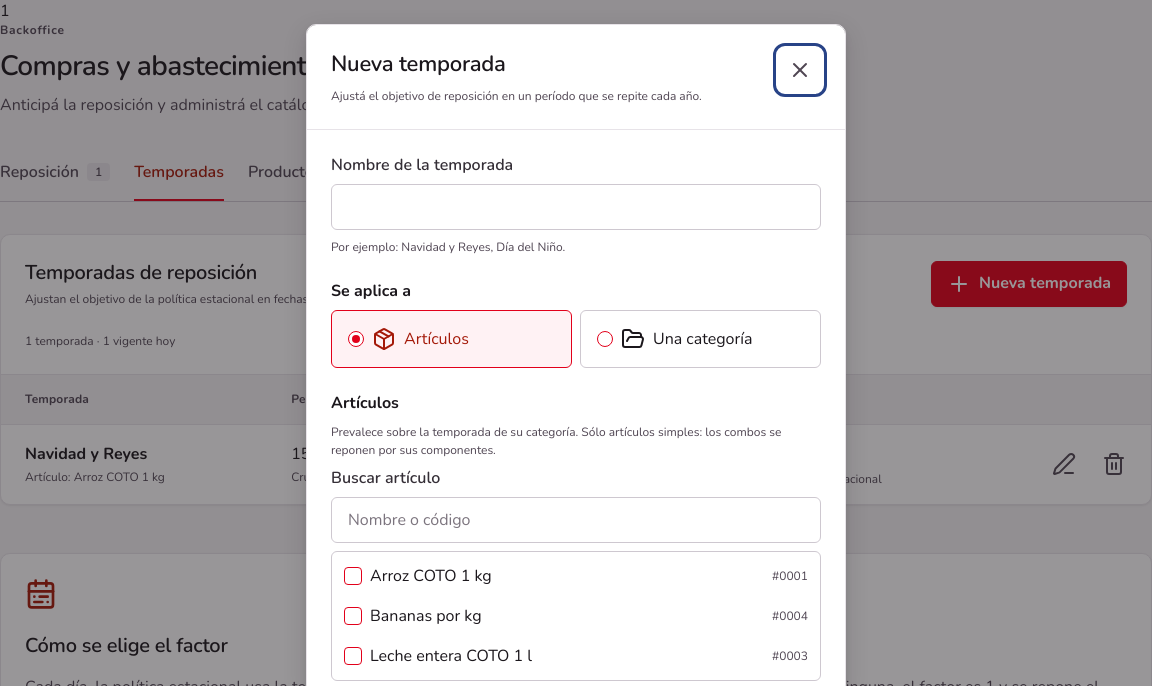
Test case: temporadas de reposición › sin artículos elegidos no envía la temporada
The width and height of the screenshot is (1152, 686).
Earlier steps of the test are not shown.
Type "Vacía" into the field labelled "Nombre de la temporada" at (576, 207), box x1=331 y1=184 x2=821 y2=230
(page scrolled)
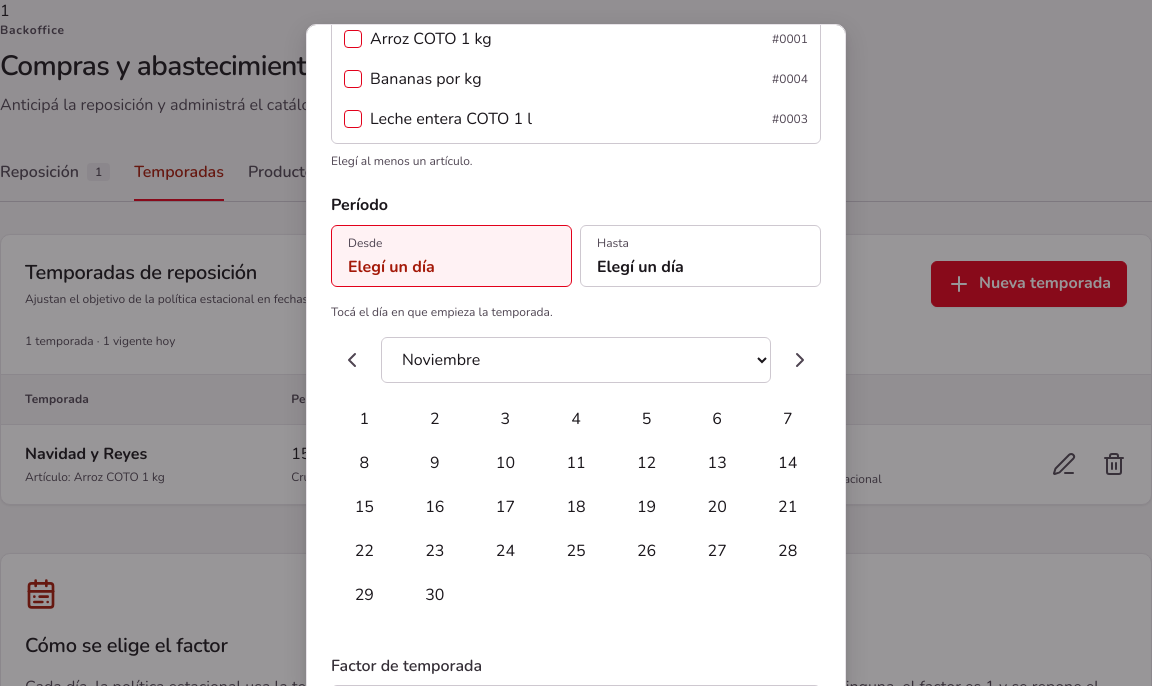
Select "Marzo" in the dropdown named "Mes del calendario" at (576, 360), box x1=381 y1=337 x2=771 y2=383
Click the button "1" at (364, 419), box x1=331 y1=399 x2=398 y2=439
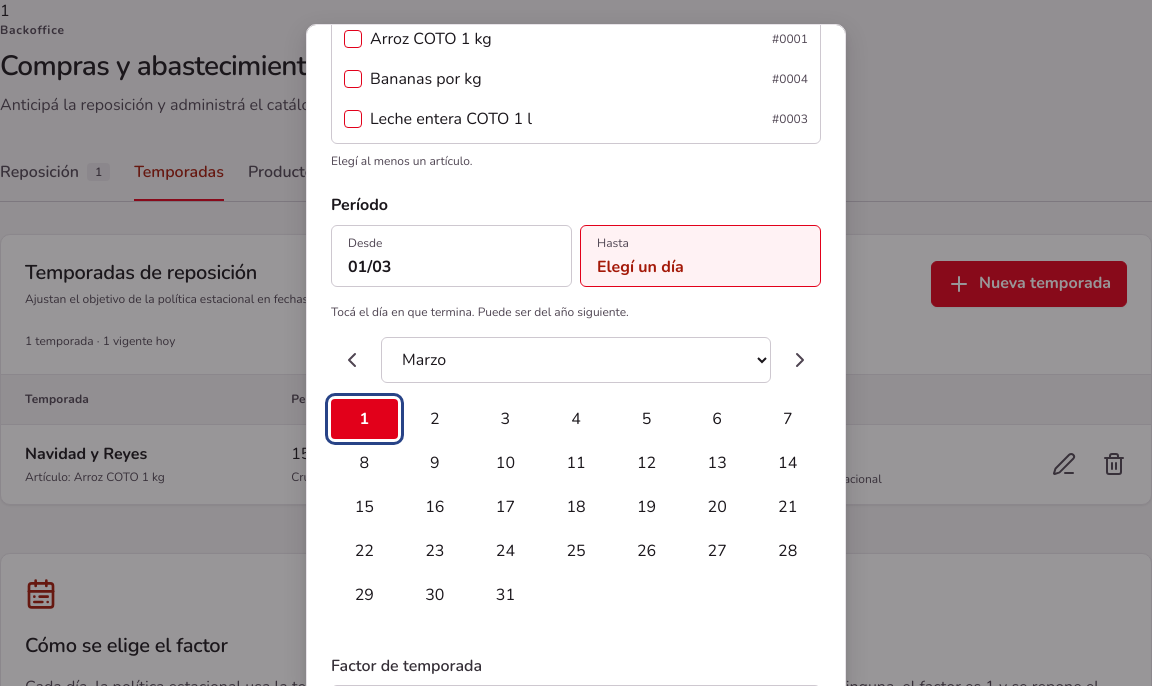
Select "Marzo" in the dropdown named "Mes del calendario" at (576, 360), box x1=381 y1=337 x2=771 y2=383
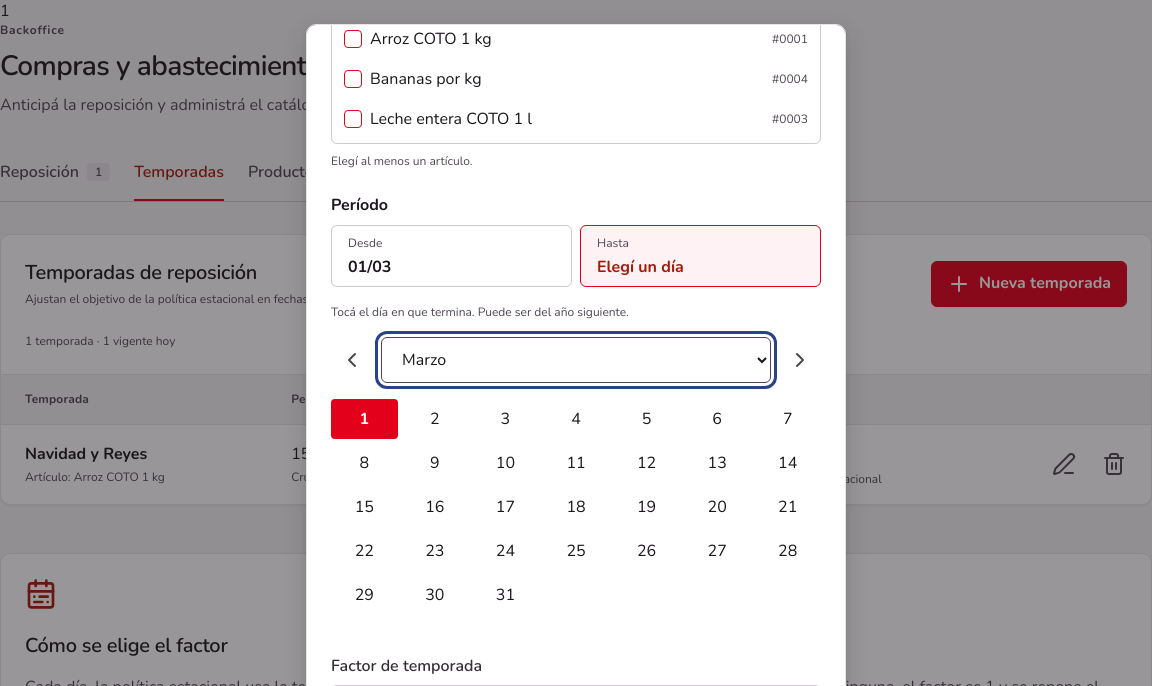
Click the button "2" at (435, 419), box x1=402 y1=399 x2=468 y2=439
(page scrolled)
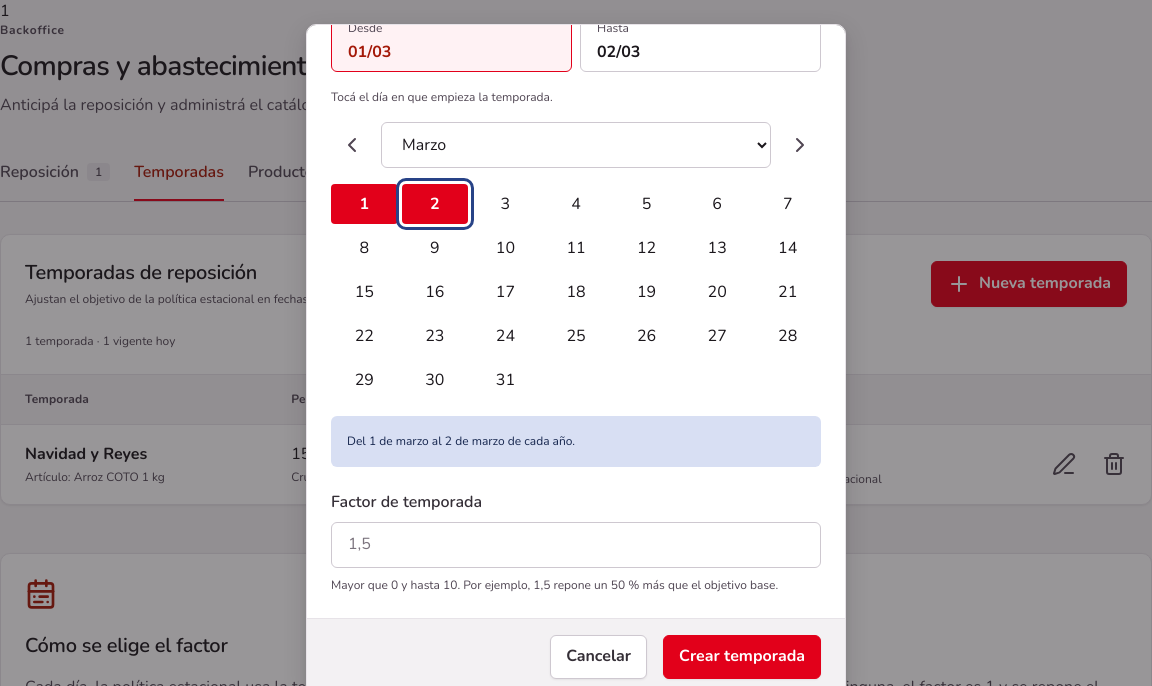
Type "1.1" into the number field labelled "Factor de temporada" at (576, 544), box x1=331 y1=522 x2=821 y2=568
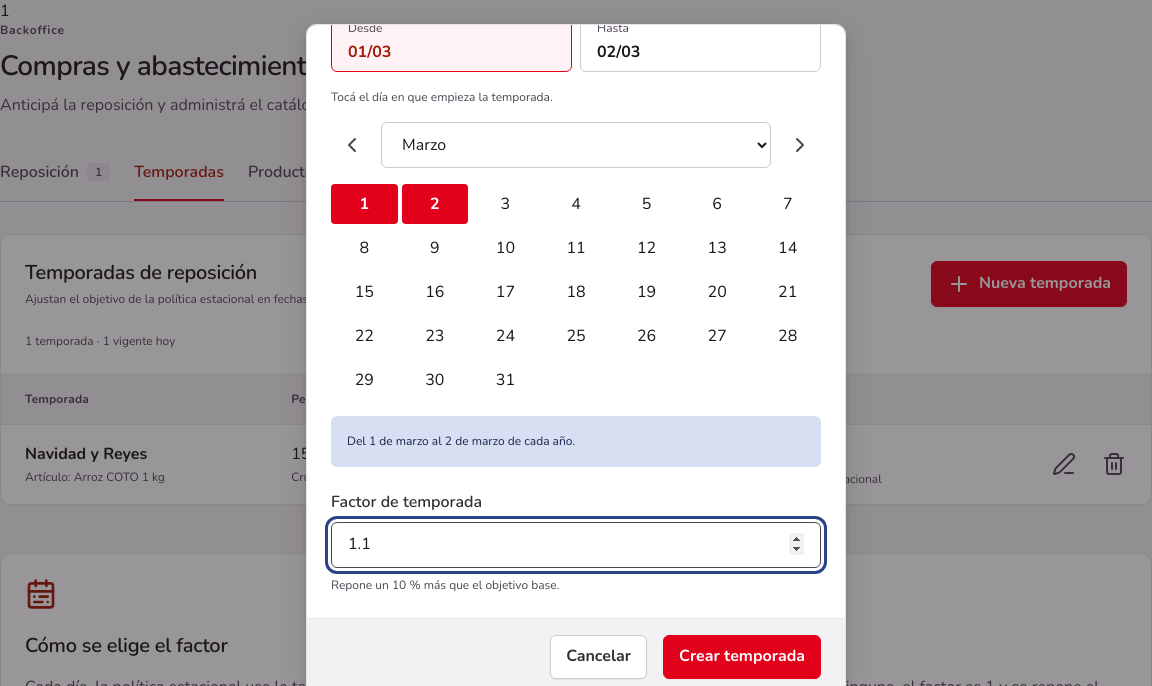
Click the button "Crear temporada" at (742, 656), box x1=663 y1=634 x2=821 y2=678
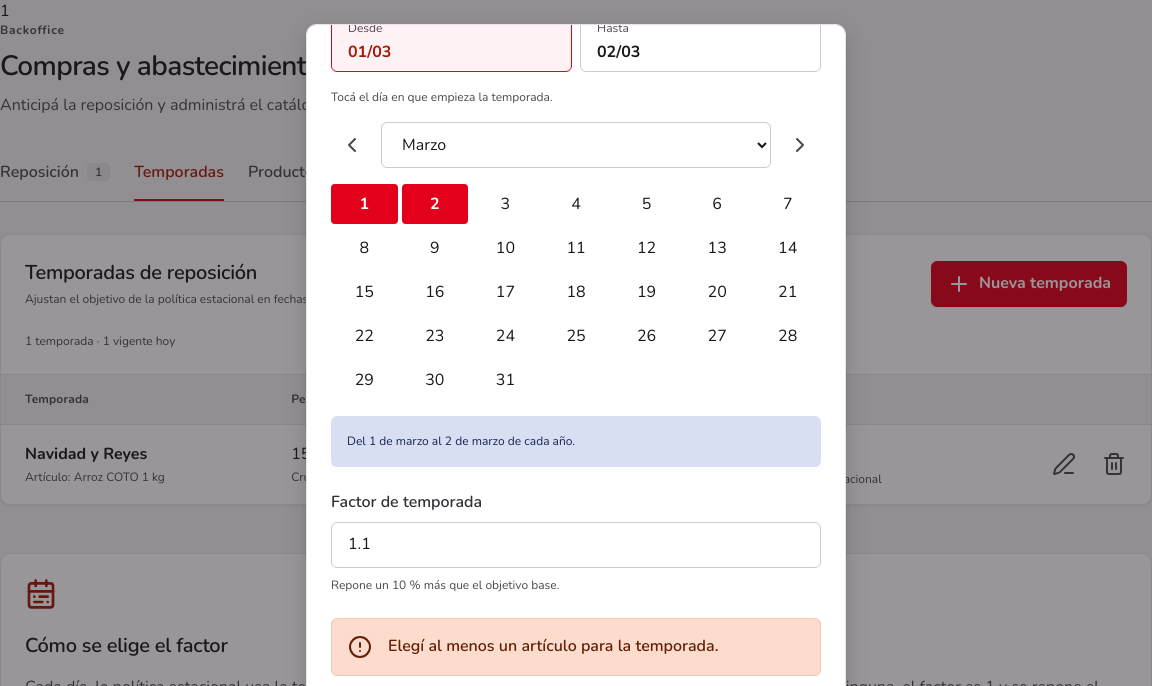
expect the message reads "Elegí al menos un artículo para la temporada.": met, box x1=388 y1=634 x2=718 y2=656
